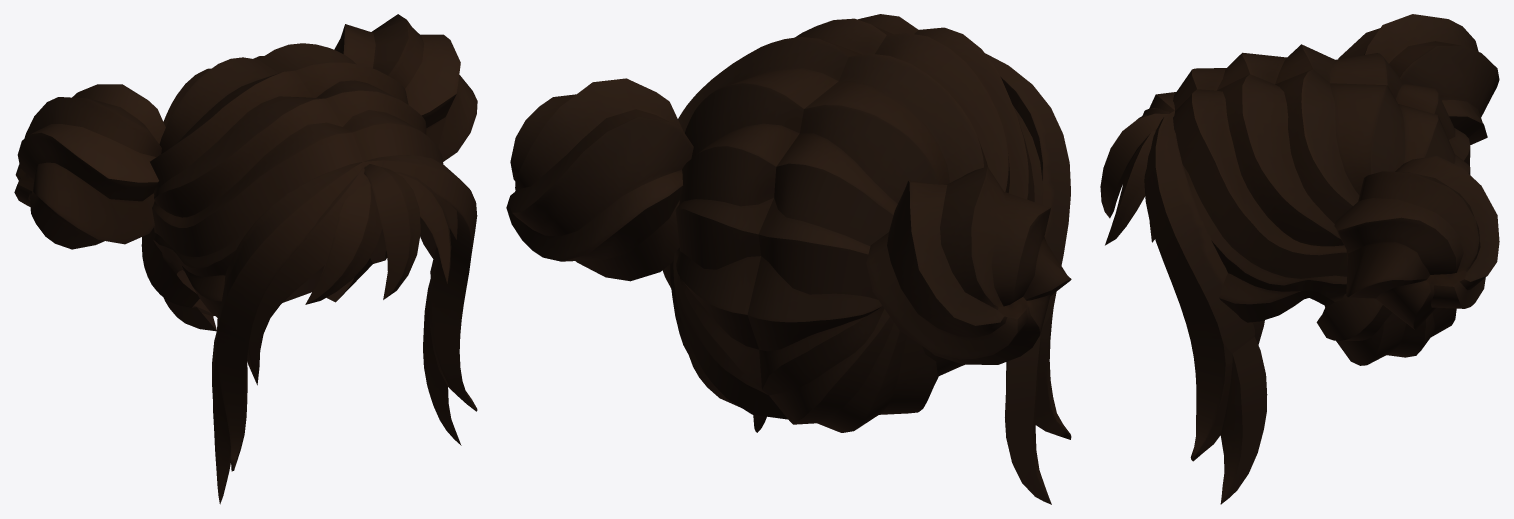
The model's file is hair-buns.glb.
3 renders of one model, left to right at view 1: azimuth 30°, elevation 25°; view 2: azimuth 150°, elevation 25°; view 3: azimuth 270°, elevation 25°, orthographic. The views are drawn at different scales.
Visible parts, largest first — view 1: hairVisual; view 2: hairVisual; view 3: hairVisual.
Boxes of the visible parts, bbox=[...] form: hairVisual: bbox=[14, 14, 477, 504]; hairVisual: bbox=[506, 14, 1071, 504]; hairVisual: bbox=[1100, 14, 1499, 504].
Size of the model in its own units: 0.3015 by 0.2491 by 0.2368.
Materials: 1 (1 with a texture image).
